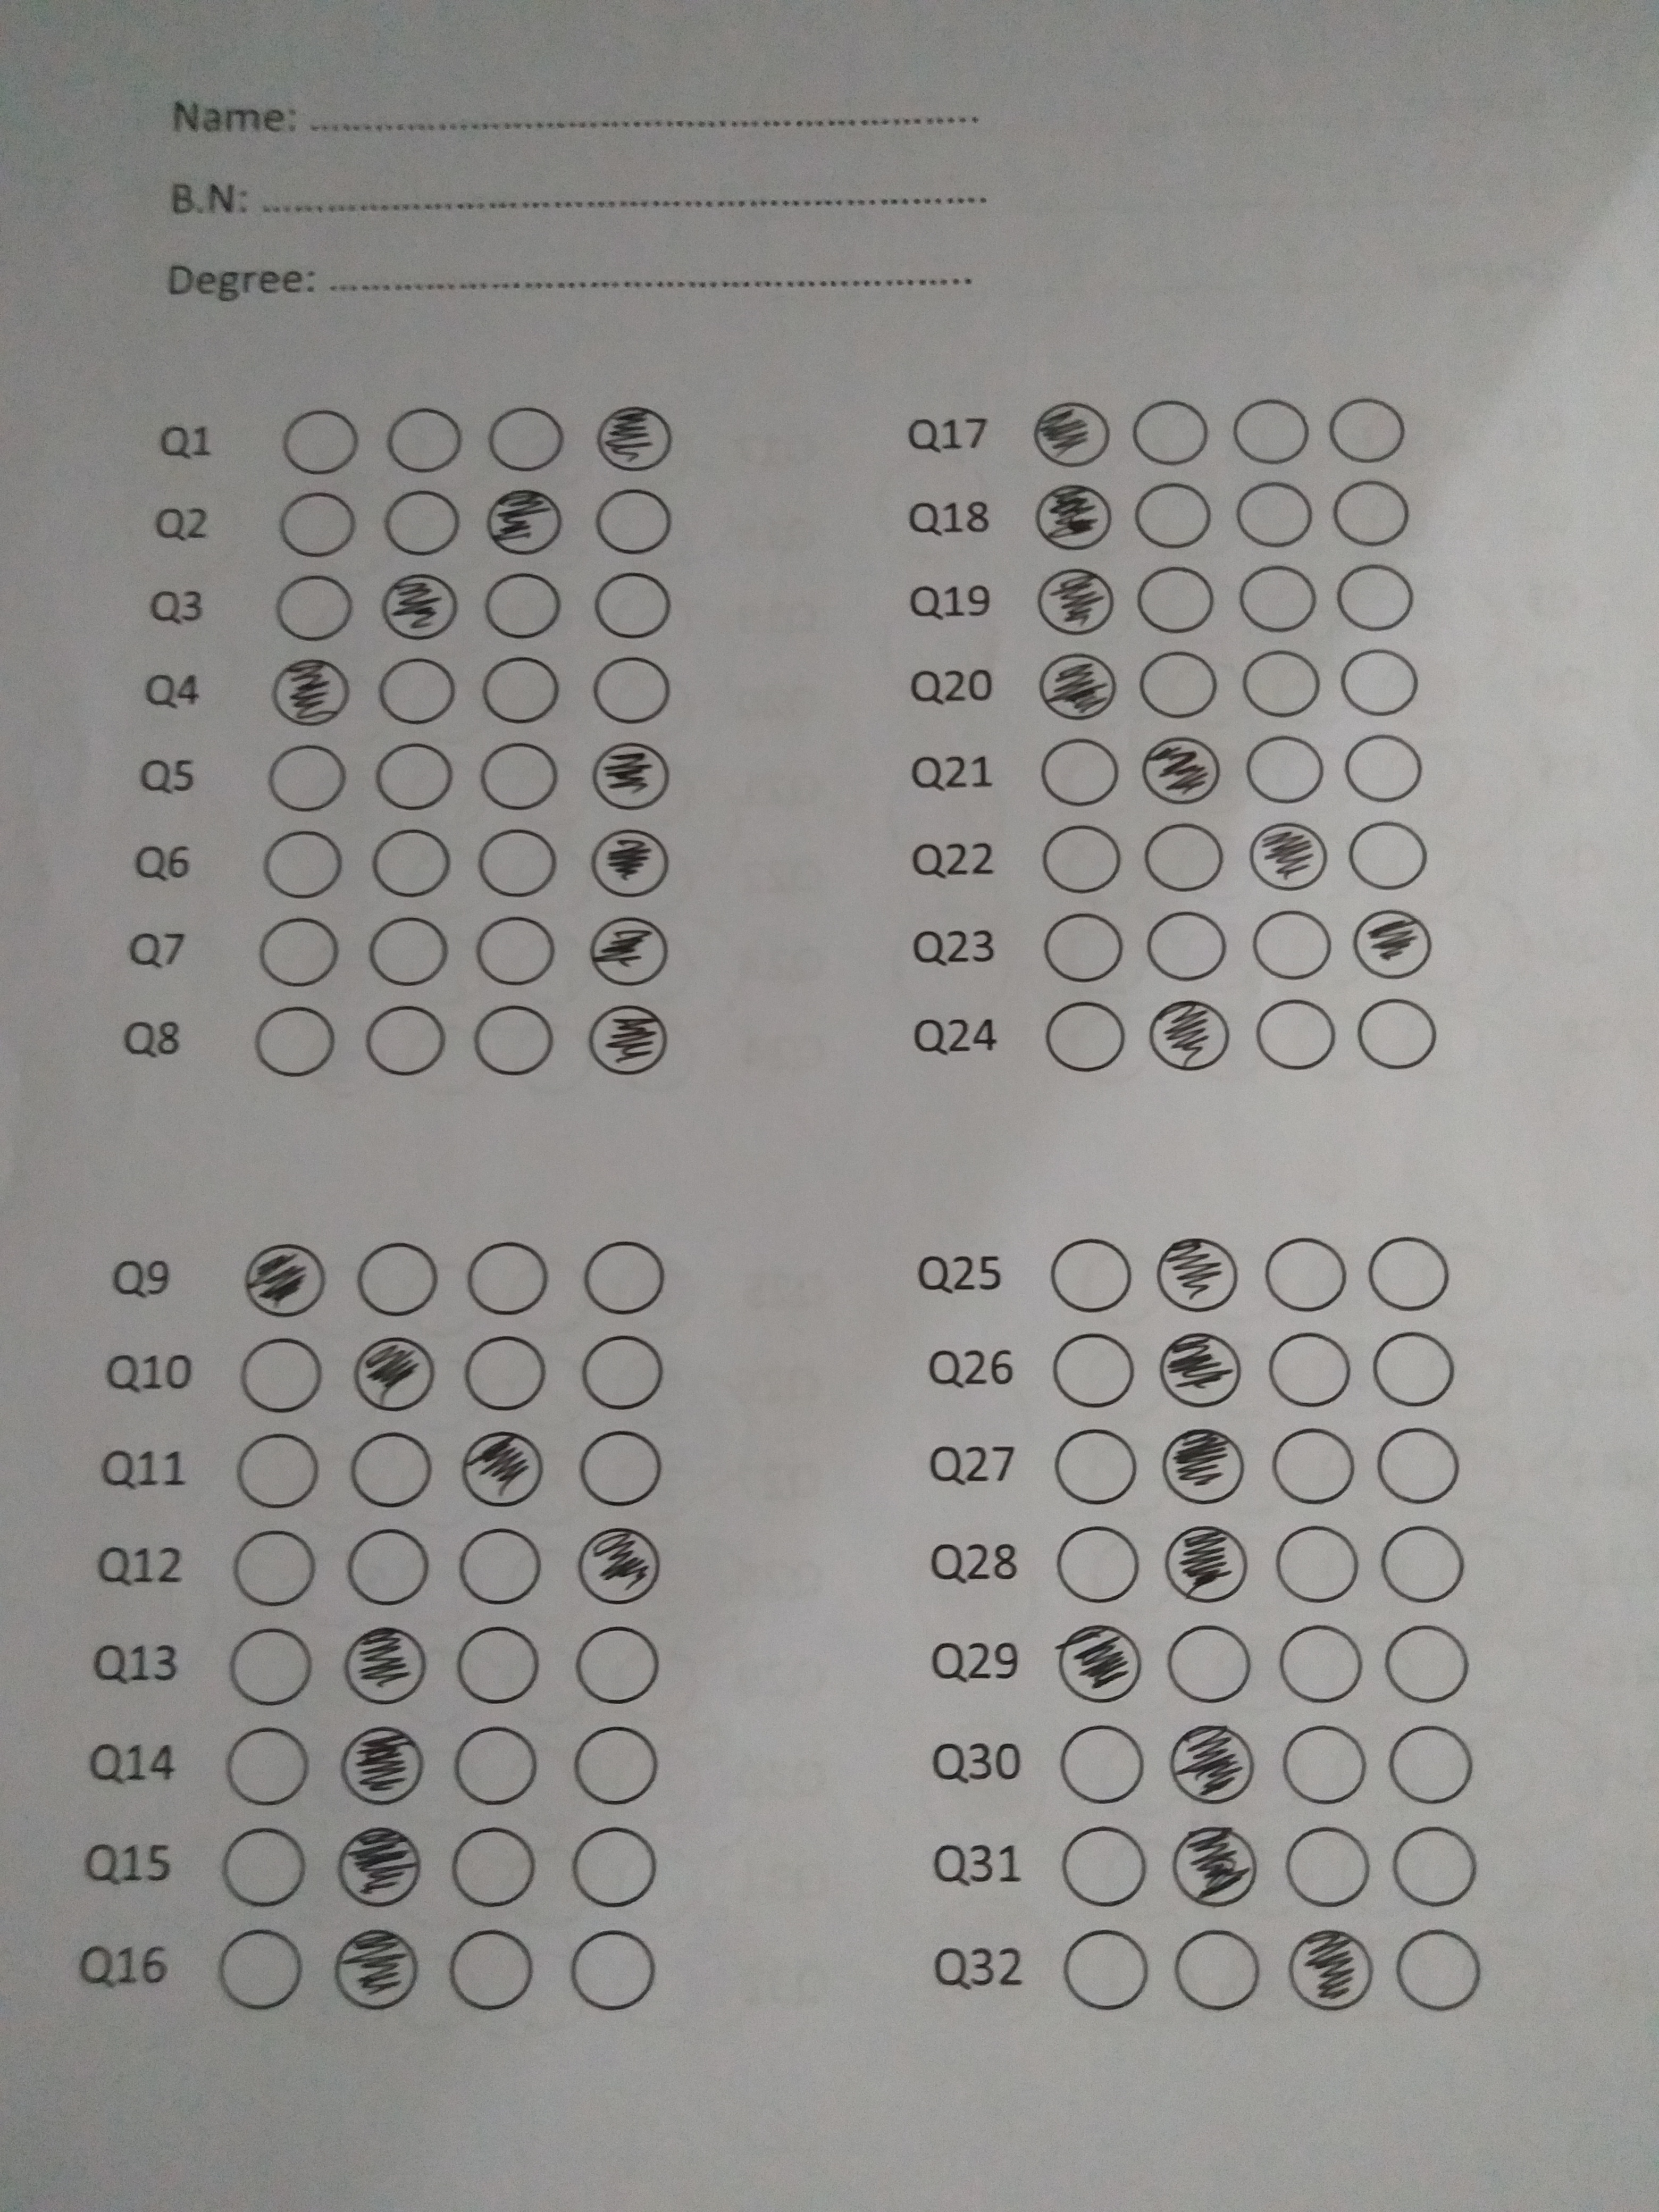not-c: (1046, 1331, 1143, 1420), (1276, 1622, 1373, 1710), (1283, 1824, 1380, 1912), (1060, 1824, 1157, 1912), (1389, 1926, 1486, 2015), (563, 1719, 659, 1808), (568, 1818, 664, 1907), (566, 1925, 662, 2013), (448, 1829, 544, 1918), (446, 1928, 542, 2017), (206, 1923, 301, 2012), (1044, 1233, 1140, 1322), (1260, 1230, 1356, 1318), (1262, 1327, 1358, 1416), (1051, 1425, 1147, 1514), (1265, 1517, 1361, 1606), (1380, 1613, 1476, 1702), (1281, 1723, 1377, 1811), (1060, 1932, 1155, 2020), (1171, 1925, 1267, 2013), (1361, 1230, 1459, 1317), (1368, 1324, 1466, 1411), (218, 1827, 314, 1914), (1267, 1420, 1363, 1507), (1047, 1519, 1143, 1606), (1373, 1521, 1469, 1608), (1382, 1719, 1478, 1806), (1166, 1622, 1262, 1709), (1060, 1719, 1155, 1806), (1392, 1820, 1488, 1907), (1370, 1420, 1466, 1507), (1323, 470, 1417, 549), (455, 1526, 549, 1604), (455, 1629, 549, 1707), (371, 399, 464, 477), (279, 406, 371, 484), (376, 486, 469, 564), (594, 484, 687, 563), (592, 564, 685, 643), (481, 651, 573, 730), (366, 655, 458, 733), (579, 650, 671, 728), (472, 737, 565, 815), (368, 738, 460, 817), (263, 738, 355, 817), (472, 829, 565, 907), (474, 914, 566, 993), (355, 914, 448, 993), (256, 914, 349, 993), (1122, 397, 1215, 475), (1227, 397, 1319, 475), (1321, 388, 1413, 467), (1230, 479, 1323, 557), (1131, 561, 1223, 639), (1333, 557, 1425, 636), (1331, 644, 1424, 723), (1129, 644, 1222, 723), (1236, 733, 1328, 812), (1340, 726, 1432, 805), (1134, 817, 1227, 895), (1147, 907, 1239, 986), (1351, 996, 1443, 1075), (1248, 998, 1340, 1076), (1040, 1001, 1133, 1080), (345, 1237, 437, 1315), (460, 1240, 552, 1318), (575, 1332, 667, 1411), (453, 1334, 545, 1413), (237, 1334, 329, 1413), (227, 1432, 319, 1510), (338, 1527, 430, 1606), (225, 1529, 317, 1608), (225, 1629, 317, 1707), (453, 1728, 545, 1806), (261, 568, 355, 644), (1229, 563, 1323, 639), (1033, 735, 1127, 812), (223, 1728, 317, 1804), (481, 401, 573, 477), (272, 488, 364, 564), (479, 568, 572, 644), (261, 833, 354, 909), (368, 829, 460, 906), (1122, 479, 1215, 556), (1241, 646, 1333, 723), (1340, 817, 1432, 894), (1035, 820, 1127, 897), (1039, 909, 1131, 986), (1246, 906, 1338, 982), (462, 1001, 554, 1078), (354, 1008, 446, 1085), (254, 1007, 347, 1083), (580, 1238, 673, 1315), (342, 1430, 434, 1507), (577, 1430, 669, 1507), (573, 1627, 666, 1703)
taken-c: (1162, 1719, 1260, 1808), (1279, 1925, 1377, 2013), (324, 1925, 422, 2013), (572, 1515, 669, 1604), (1150, 1420, 1246, 1508), (1157, 1519, 1253, 1608), (1049, 1620, 1145, 1709), (1162, 1820, 1258, 1909), (329, 1822, 425, 1911), (333, 1719, 429, 1808), (331, 1620, 427, 1709), (453, 1423, 549, 1512), (1140, 995, 1236, 1083), (1150, 1324, 1248, 1411), (1150, 1228, 1246, 1315), (347, 1327, 443, 1414), (232, 1237, 328, 1324), (1241, 819, 1335, 897), (587, 401, 681, 479), (584, 1000, 669, 1085), (584, 907, 674, 988), (1026, 561, 1119, 639), (1023, 477, 1115, 556), (584, 738, 676, 817), (474, 481, 566, 559), (1133, 730, 1225, 808), (1351, 902, 1436, 986), (1030, 646, 1122, 723), (1023, 395, 1115, 472), (580, 824, 673, 900), (260, 650, 352, 726), (376, 568, 469, 644)
